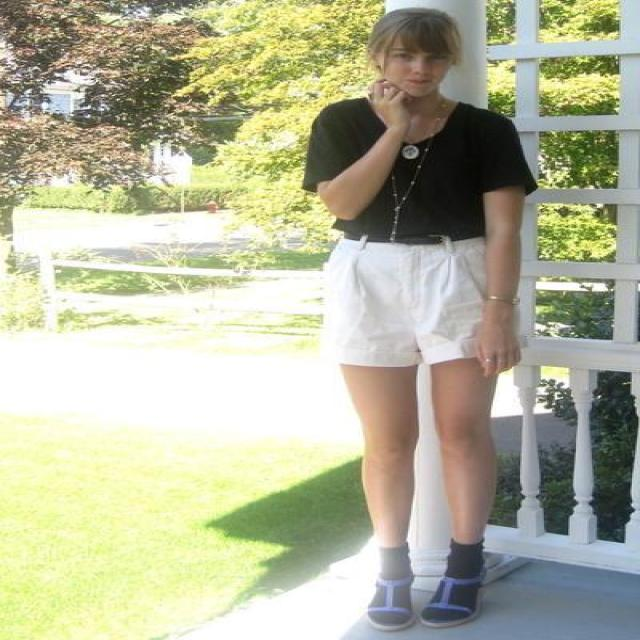shirt: (302, 94, 538, 245)
shoe: (371, 538, 493, 628)
shorts: (302, 229, 493, 370)
